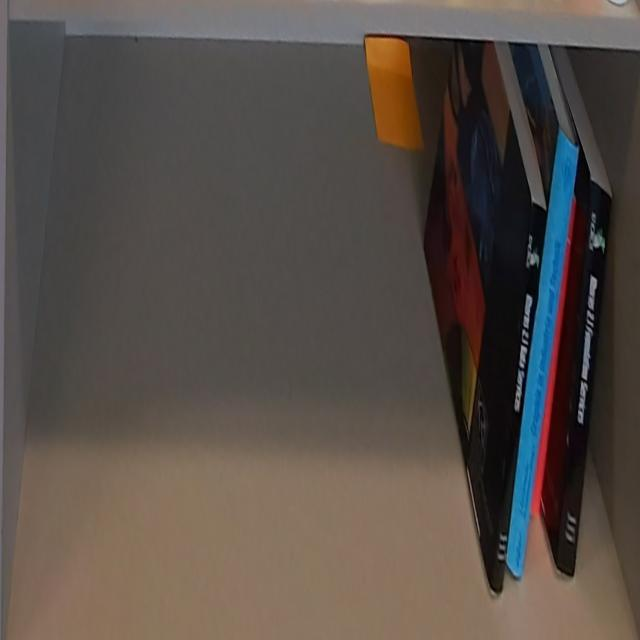Book Spine: (508, 126, 581, 581), (491, 198, 548, 600), (557, 183, 614, 582), (533, 194, 579, 516)
